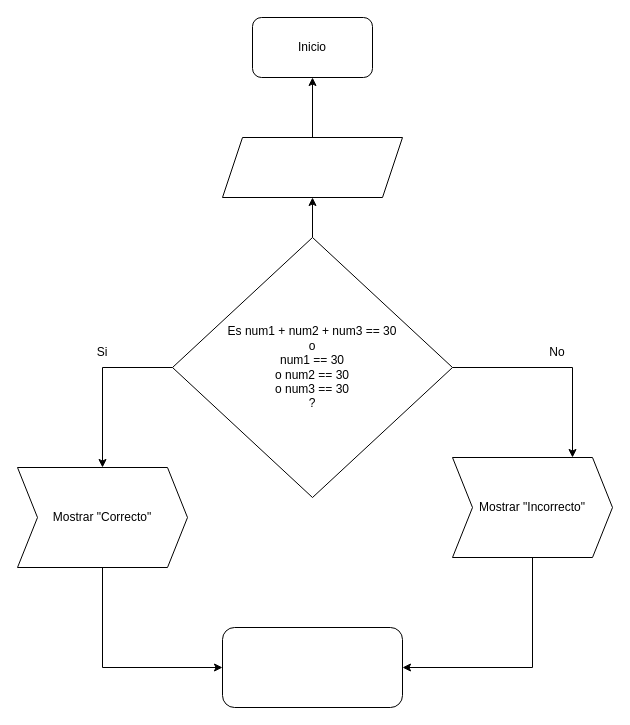
Some shapes in this 630 by 725 pixel diagram are drawn without their labels. Here are the shapes that lost their labels. From the top down, the box of each, then its label:
(222, 136, 402, 198): Definir 3 numeros Mostrar "Ingrese 3 numeros"
(222, 626, 402, 708): Fin
